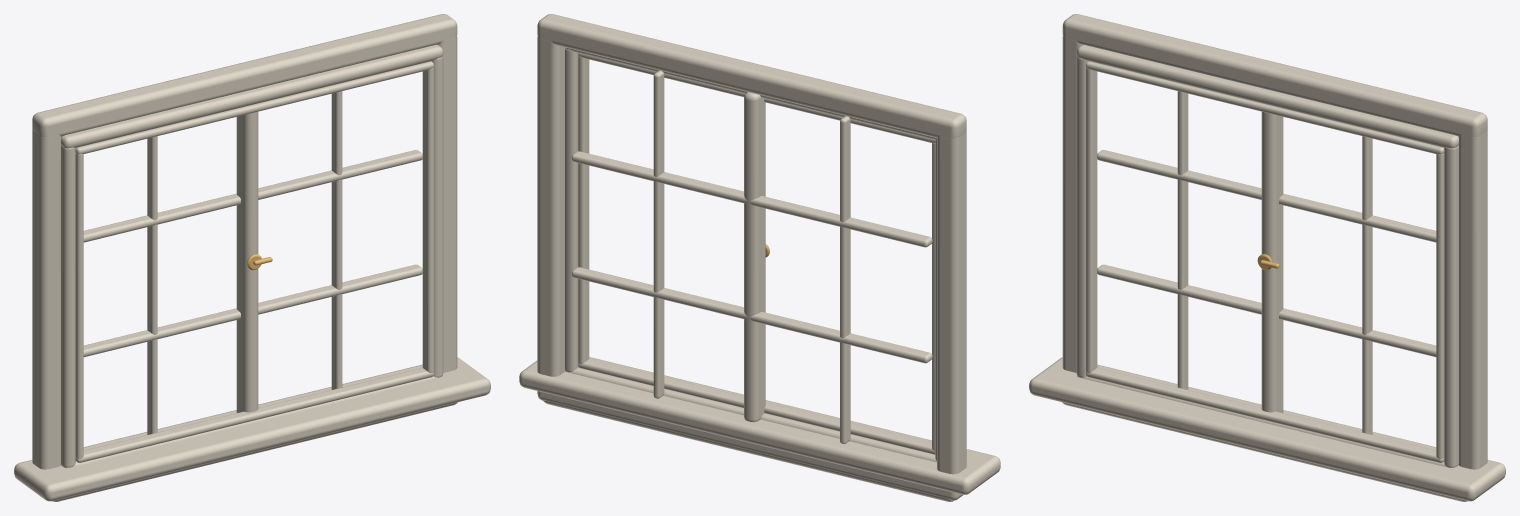
File: playroom_window_frame.glb
3 renders of one model, left to right at view 1: azimuth 30°, elevation 25°; view 2: azimuth 150°, elevation 25°; view 3: azimuth 330°, elevation 25°, orthographic.
Parts seen in each view (by area): view 1: playroom_window_frame; view 2: playroom_window_frame; view 3: playroom_window_frame.
Part boxes in pixels (bbox=[...]): playroom_window_frame: bbox=[14, 14, 490, 501]; playroom_window_frame: bbox=[519, 14, 1000, 501]; playroom_window_frame: bbox=[1029, 14, 1505, 501].
Size of the model in its own units: 3.34 by 2.72 by 0.46.
